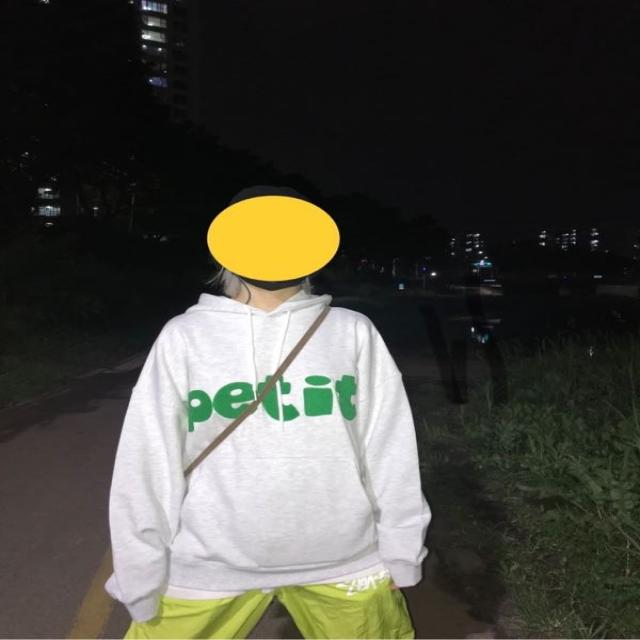hoodies: (106, 283, 434, 616)
